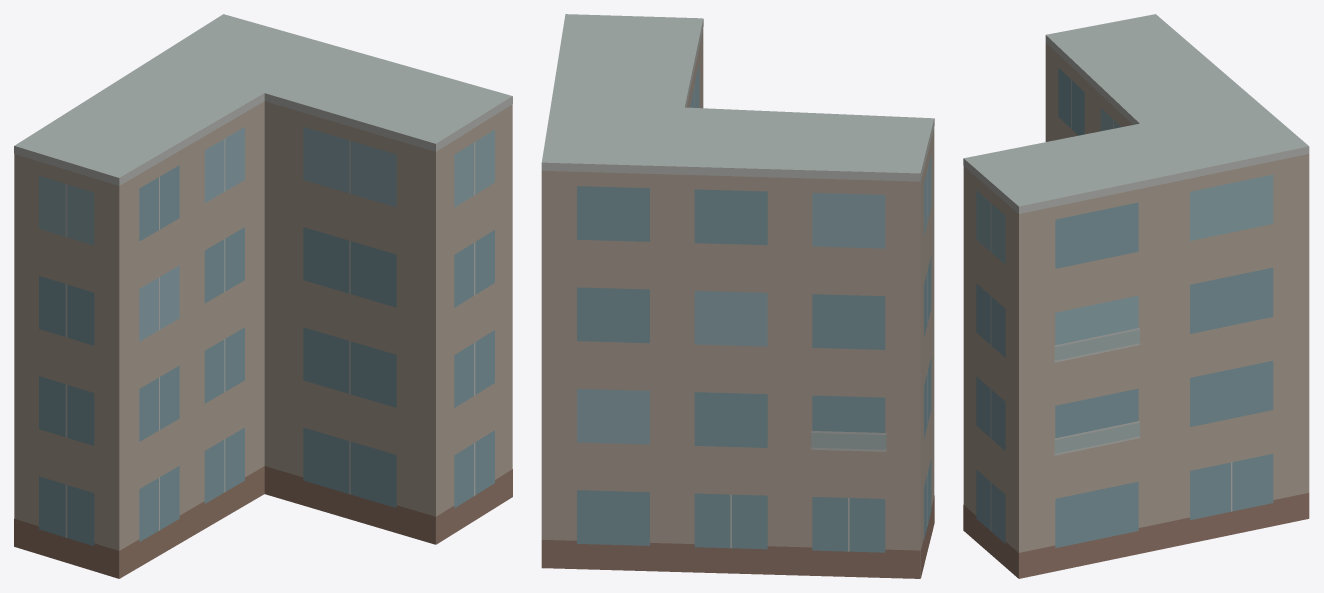
File: survey-upis-32637543.glb
3 views of the same model, side by side, from view 1: azimuth 30°, elevation 25°; view 2: azimuth 150°, elevation 25°; view 3: azimuth 270°, elevation 25° (orthographic). The views are drawn at different scales.
Visible parts, largest first — view 1: survey-upis-32637543.tmp; view 2: survey-upis-32637543.tmp; view 3: survey-upis-32637543.tmp.
Part boxes in pixels (<box>): survey-upis-32637543.tmp: <box>14,14,512,578</box>; survey-upis-32637543.tmp: <box>541,14,934,578</box>; survey-upis-32637543.tmp: <box>963,14,1309,578</box>.
Bounding box in the file's own units: 13.54 × 12.2 × 10.28.
